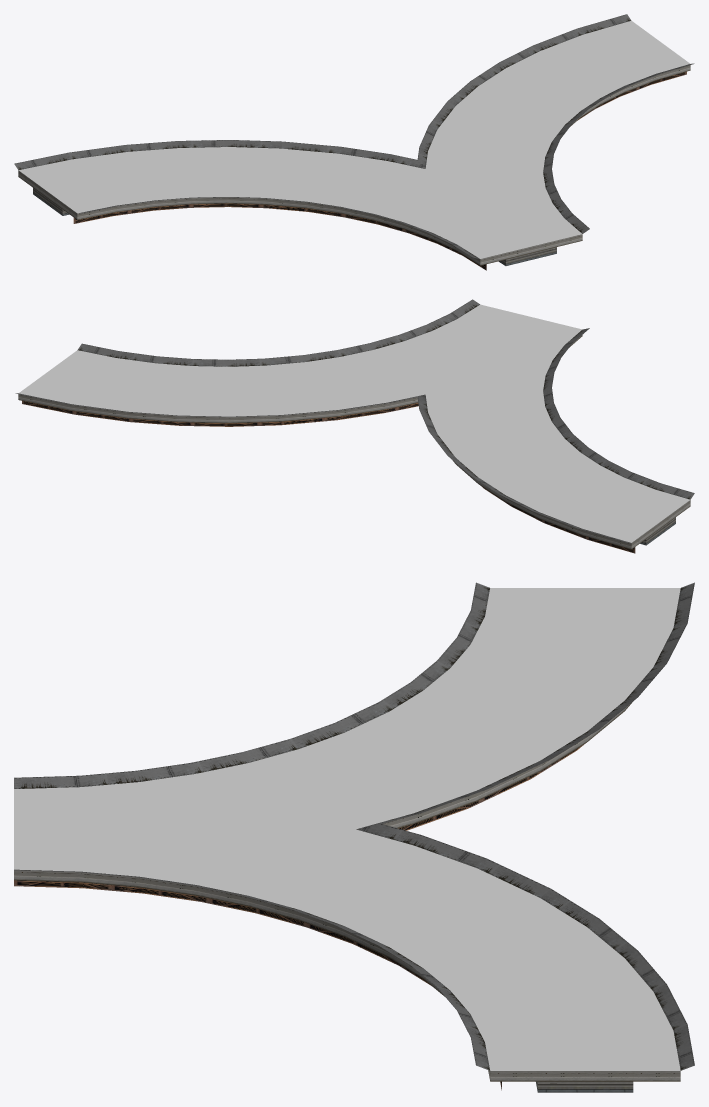
The model's file is Fork2.fbx.
3 renders of one model, top to bottom at view 1: azimuth 30°, elevation 25°; view 2: azimuth 150°, elevation 25°; view 3: azimuth 270°, elevation 25°, orthographic. The views are drawn at different scales.
Visible parts, largest first — view 1: Empty_Mesh; view 2: Empty_Mesh; view 3: Empty_Mesh.
Boxes of the visible parts, x1,y1,x2,y2 form: Empty_Mesh: [14, 14, 694, 270]; Empty_Mesh: [15, 299, 694, 553]; Empty_Mesh: [14, 582, 694, 1092].
Bounding box in the file's own units: 96 × 2.5 × 57.2.
